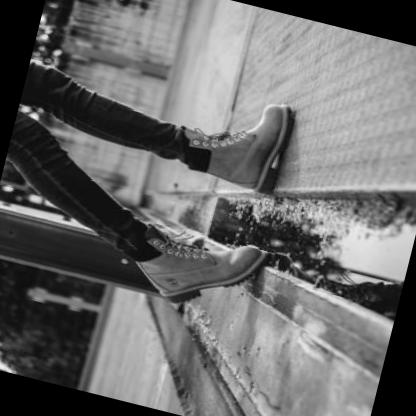ankle: (220, 157, 227, 163), (157, 257, 162, 262)
heel: (173, 296, 180, 301), (264, 186, 271, 191)
left_foot: (132, 220, 273, 324)
pinky: (247, 258, 254, 263), (268, 107, 273, 112)
right_foot: (185, 85, 297, 197)
toe: (276, 113, 283, 119), (249, 246, 254, 250)
